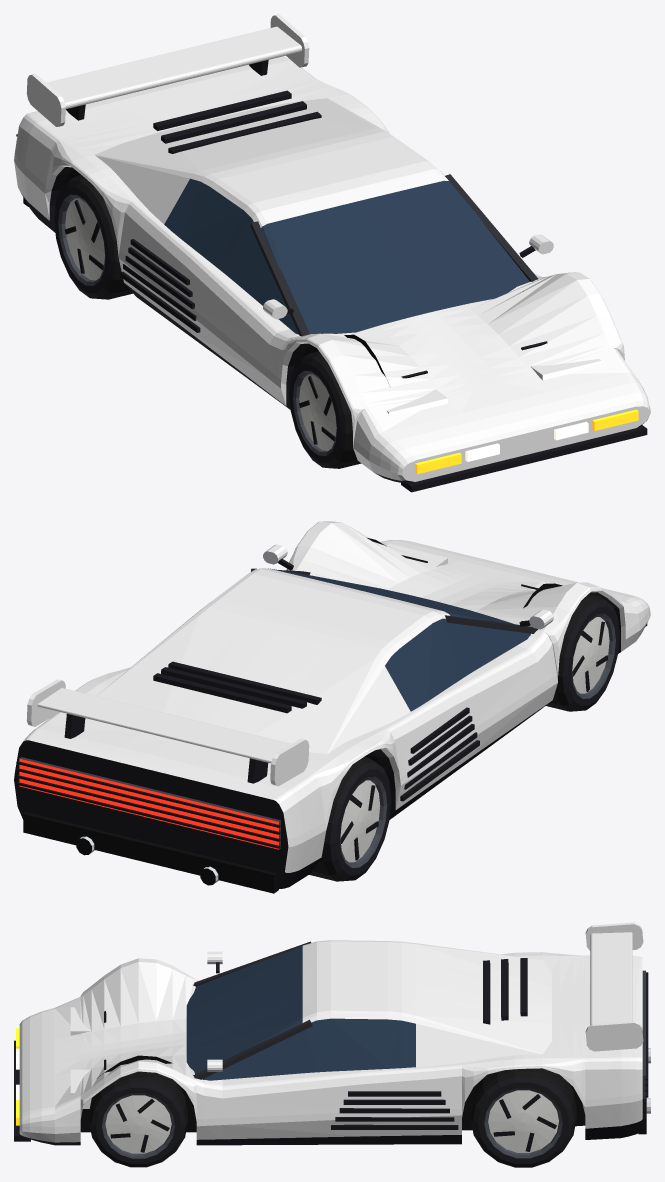
The model's file is wedge.glb.
The picture shows the model from 3 angles, top to bottom: view 1: azimuth 30°, elevation 25°; view 2: azimuth 150°, elevation 25°; view 3: azimuth 270°, elevation 25°; orthographic projection. The views are drawn at different scales.
Visible parts, largest first — view 1: paint, glass, stripe_a, trim, tire_side (×2), part_19 (×2), stripe_b, trim_soft, tire (×2), rim_gunmetal (×2), headlight_amber, paint_9_popup (+1 smaller); view 2: paint, trim, stripe_a, glass, trim_under, taillight, tire_side (×2), part_19 (×2), stripe_b, tire (×2), rim_gunmetal (×2), trim_soft (+1 smaller); view 3: paint, glass, trim (×3), stripe_a, part_19 (×2), tire_side (×2), stripe_b, tire (×2), rim_gunmetal (×2), trim_under, trim_soft, paint_9_popup (+1 smaller).
Boxes of the visible parts, left/top/right/bottom form: paint: left=14, top=14, right=649, bottom=481; glass: left=164, top=178, right=529, bottom=334; stripe_a: left=114, top=76, right=569, bottom=443; trim: left=16, top=60, right=647, bottom=492; tire_side (×2): left=54, top=180, right=346, bottom=468; part_19 (×2): left=65, top=198, right=336, bottom=450; stripe_b: left=14, top=153, right=650, bottom=475; trim_soft: left=250, top=174, right=538, bottom=336; tire (×2): left=70, top=175, right=361, bottom=468; rim_gunmetal (×2): left=58, top=194, right=336, bottom=456; headlight_amber: left=415, top=409, right=638, bottom=474; paint_9_popup: left=387, top=359, right=600, bottom=413; paint: left=19, top=521, right=649, bottom=872; trim: left=14, top=555, right=647, bottom=888; stripe_a: left=107, top=557, right=566, bottom=780; glass: left=268, top=568, right=530, bottom=711; trim_under: left=23, top=537, right=590, bottom=893; taillight: left=19, top=758, right=278, bottom=849; tire_side (×2): left=330, top=600, right=619, bottom=880; part_19 (×2): left=340, top=617, right=609, bottom=862; stripe_b: left=287, top=548, right=650, bottom=846; tire (×2): left=309, top=594, right=604, bottom=881; rim_gunmetal (×2): left=340, top=613, right=615, bottom=867; trim_soft: left=251, top=568, right=537, bottom=633; paint: left=19, top=922, right=643, bottom=1142; glass: left=186, top=945, right=415, bottom=1080; trim (×3): left=14, top=958, right=648, bottom=1152; stripe_a: left=19, top=958, right=642, bottom=1087; part_19 (×2): left=105, top=1090, right=558, bottom=1153; tire_side (×2): left=91, top=1076, right=574, bottom=1167; stripe_b: left=19, top=1066, right=642, bottom=1133; tire (×2): left=89, top=1068, right=576, bottom=1151; rim_gunmetal (×2): left=102, top=1088, right=562, bottom=1158; trim_under: left=80, top=1055, right=646, bottom=1134; trim_soft: left=193, top=941, right=312, bottom=1079; paint_9_popup: left=70, top=1007, right=91, bottom=1108.
Size of the model in its own units: 1.92 by 1.1 by 4.5.
